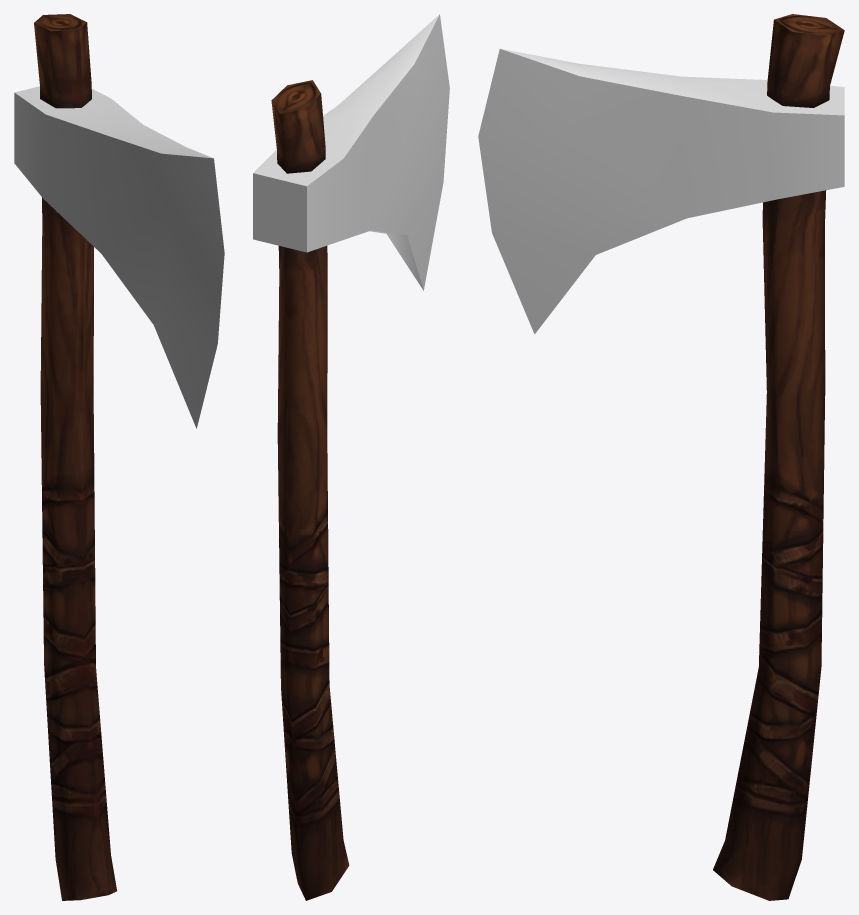
Rendered from Axe00_mesh.FBX.
The picture shows the model from 3 angles, left to right: view 1: azimuth 30°, elevation 25°; view 2: azimuth 150°, elevation 25°; view 3: azimuth 270°, elevation 25°; orthographic projection. The views are drawn at different scales.
Parts seen in each view (by area): view 1: Axe00_mesh; view 2: Axe00_mesh; view 3: Axe00_mesh.
Boxes of the visible parts, x1,y1,x2,y2 form: Axe00_mesh: (14,14,224,900); Axe00_mesh: (253,14,449,900); Axe00_mesh: (478,14,844,900).
Size of the model in its own units: 5.94 by 75.58 by 28.54.
